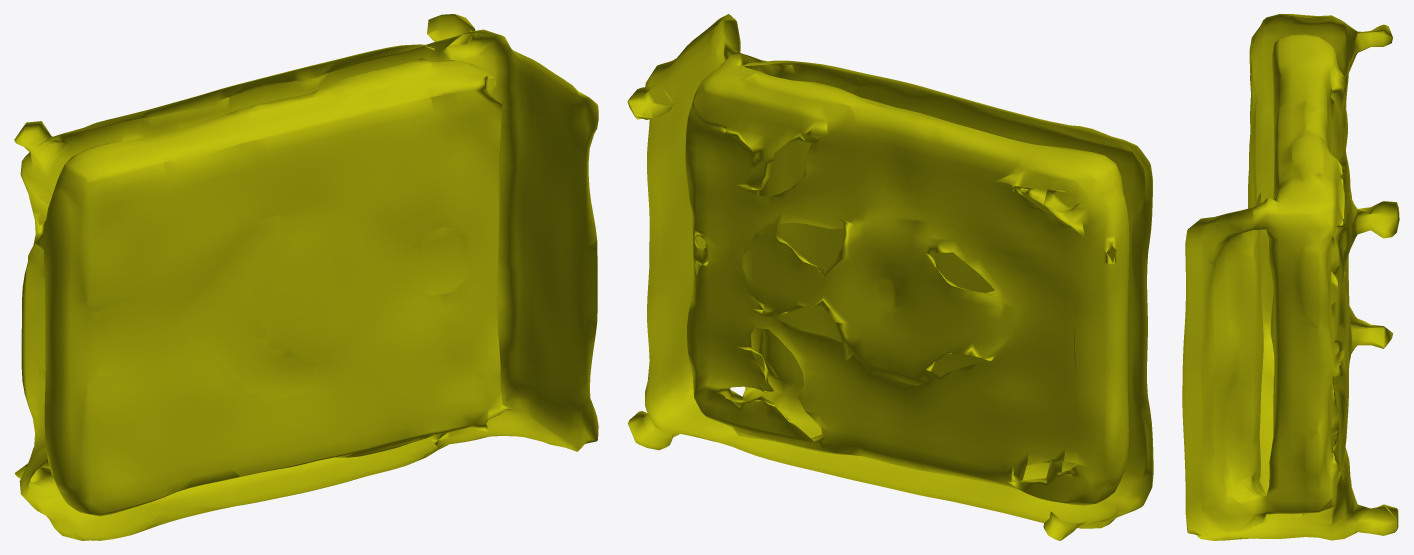
3 views of the same model, side by side, from view 1: azimuth 30°, elevation 25°; view 2: azimuth 150°, elevation 25°; view 3: azimuth 270°, elevation 25° (orthographic). The views are drawn at different scales.
Parts seen in each view (by area): view 1: world; view 2: world; view 3: world.
Boxes of the visible parts, x1,y1,x2,y2 form: world: (14, 14, 598, 540); world: (627, 14, 1153, 540); world: (1182, 14, 1399, 540).
Size of the model in its own units: 39.14 by 29.99 by 16.65.
